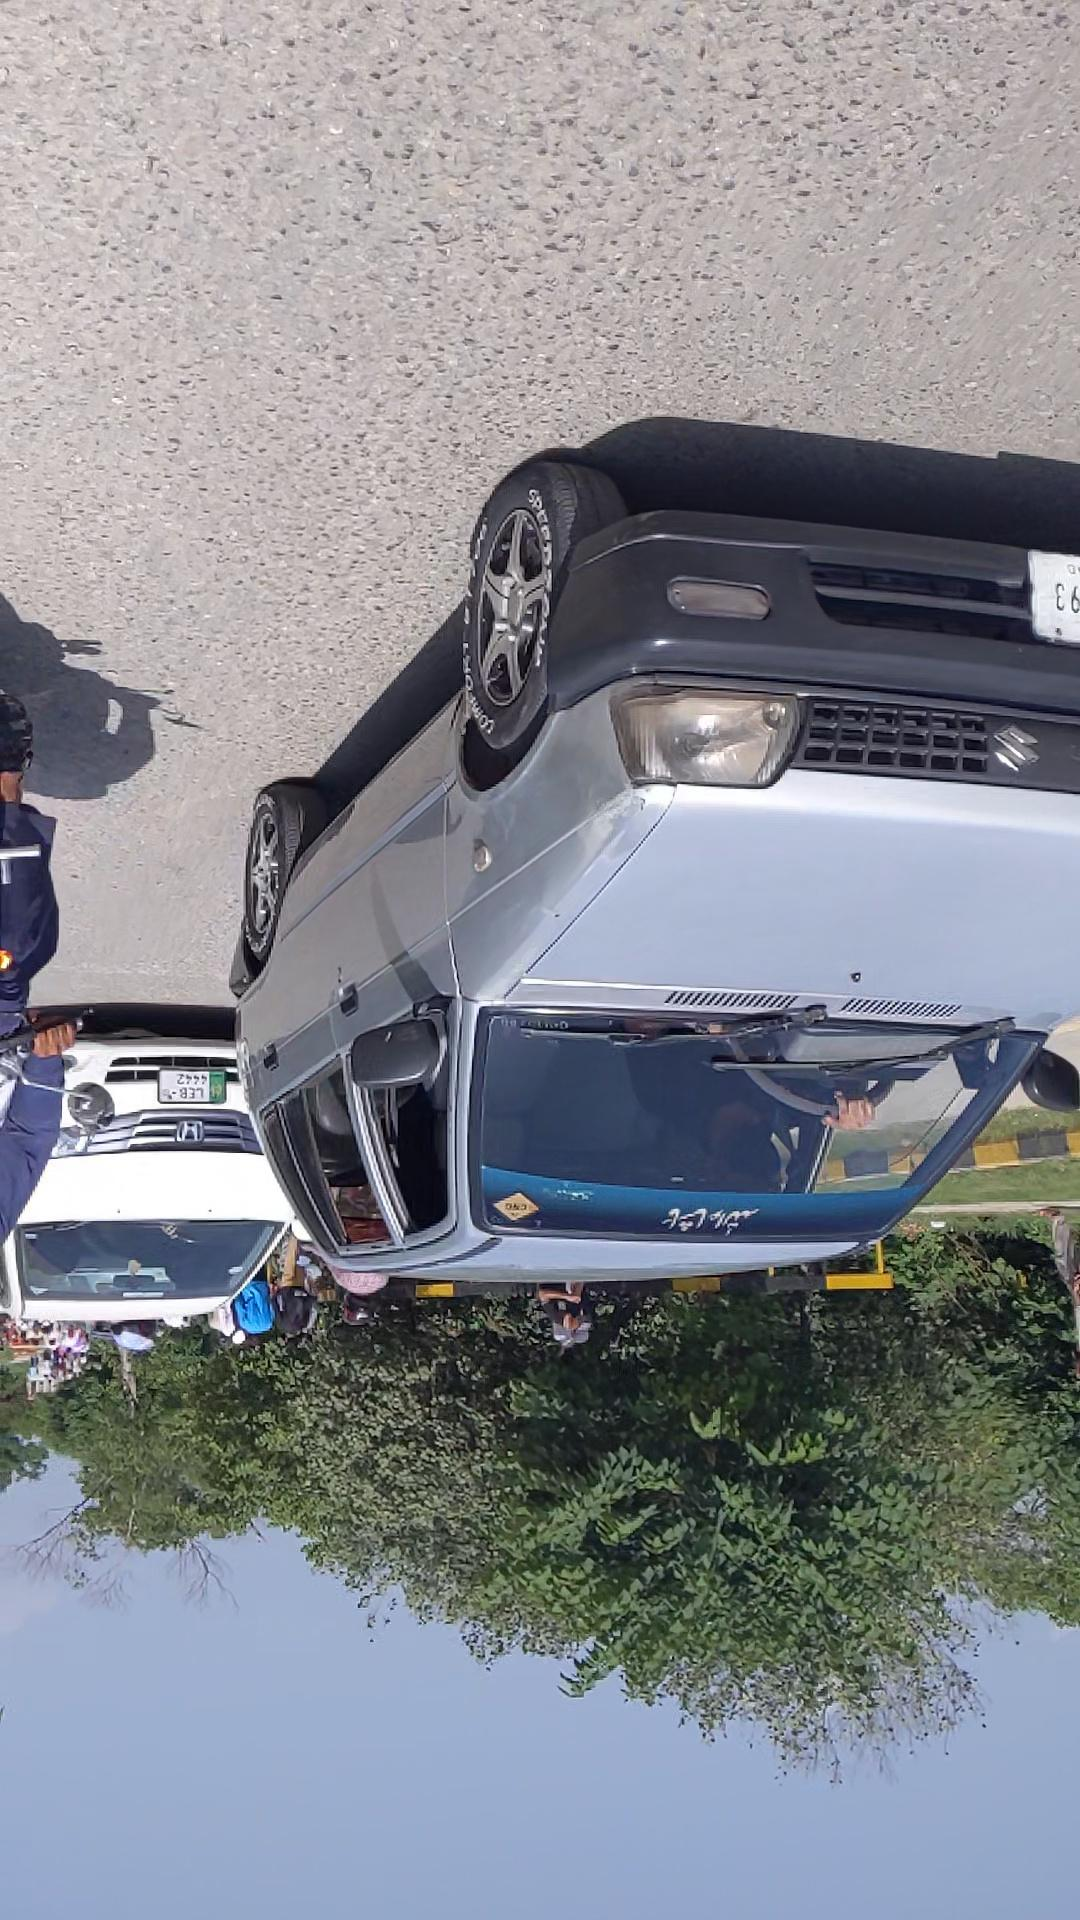windshield: (61, 690, 616, 924), (798, 611, 1067, 694)
